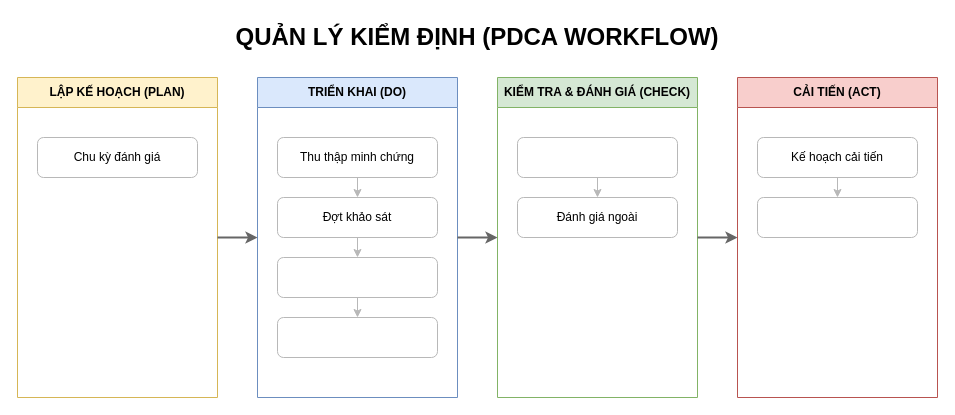
The diagram is 955 pixels wide and 415 high, and some of its shapes have lost their labels. The shapes that lost their labels are listed below. From the top down, each one's centre as x and y in pixels, then its label:
At (597,157): "Đánh giá nội bộ".
At (837,217): "Thực hiện kế hoạch".
At (357,277): "Đánh giá tiêu chí".
At (357,337): "Soạn thảo SAR".
